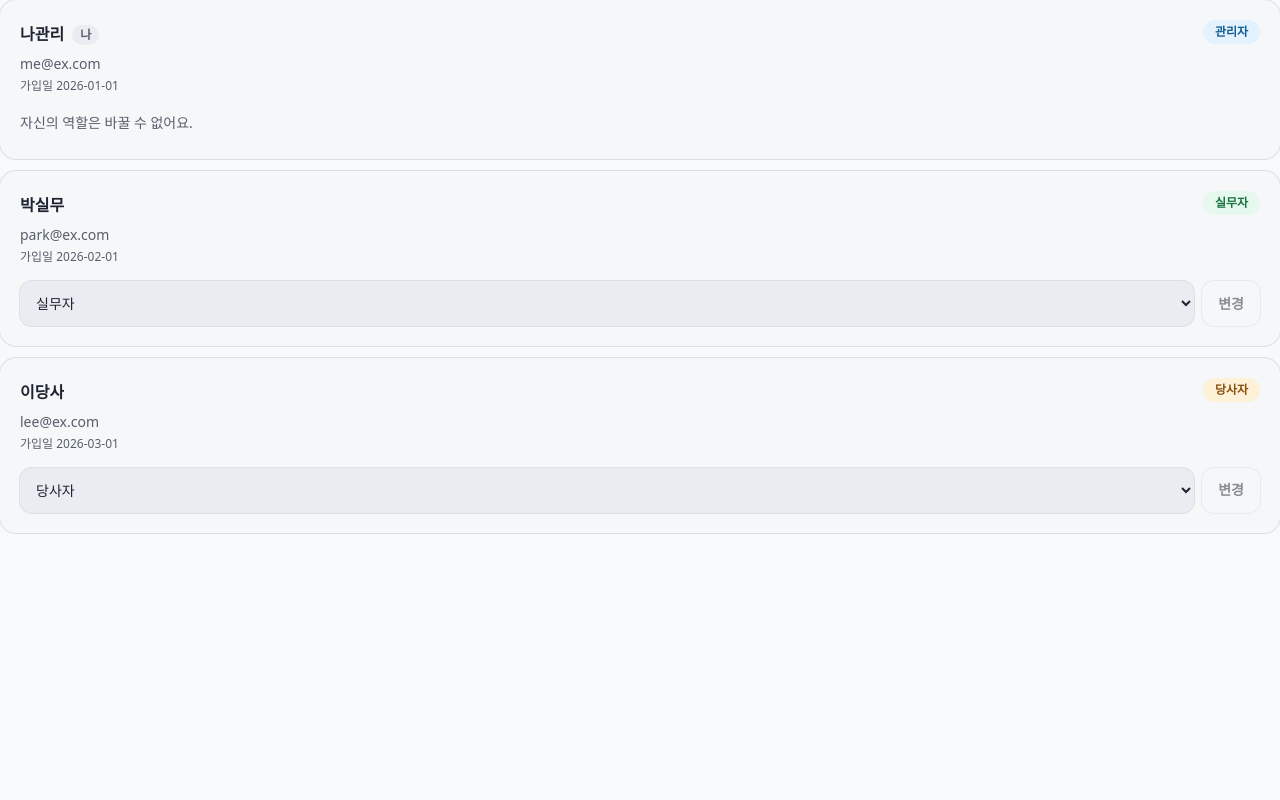
Scenario: UserRoleManagementClient — 역할 관리 › 그대로 두면 저장 안 함
Select "관리자" in the dropdown named "박실무". click: (607, 304)
box: [20,281,1194,326]
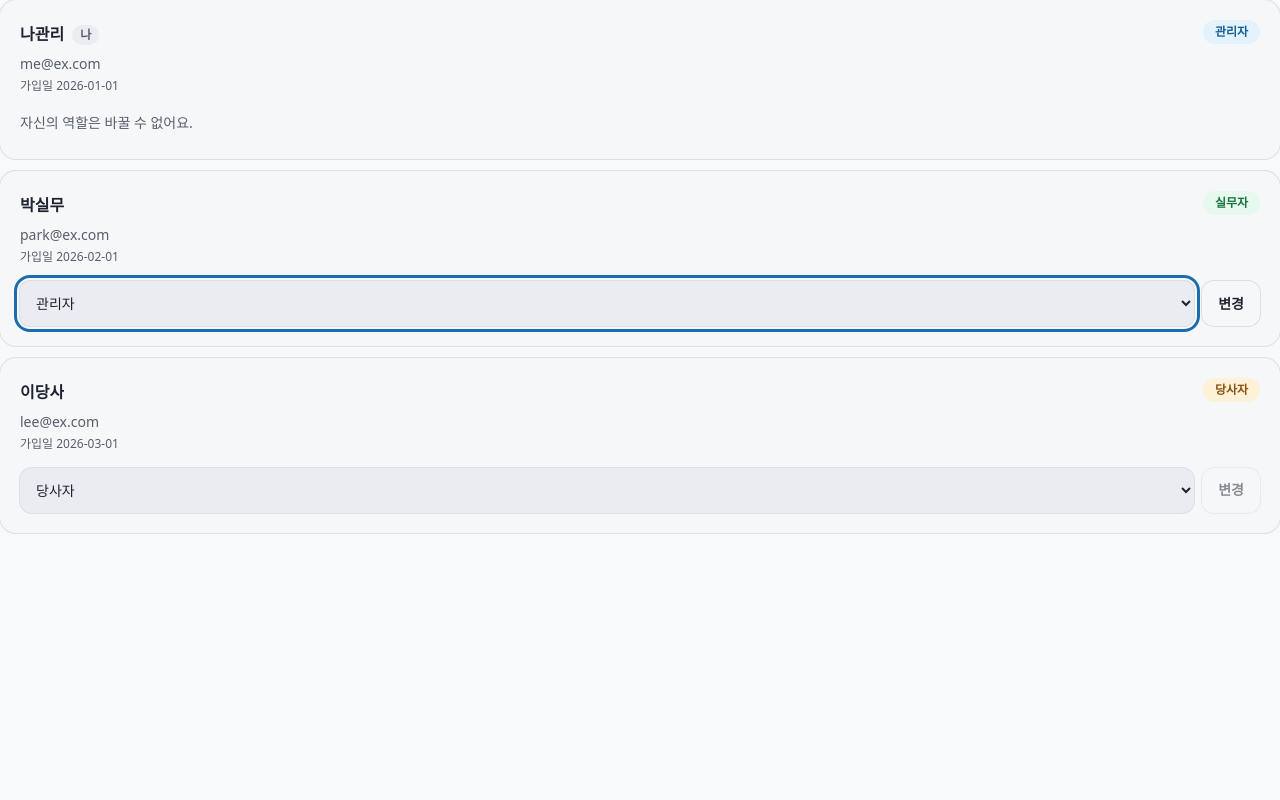
Click the button "변경" below "실무자". click: (1231, 304)
box: [1202,281,1260,326]
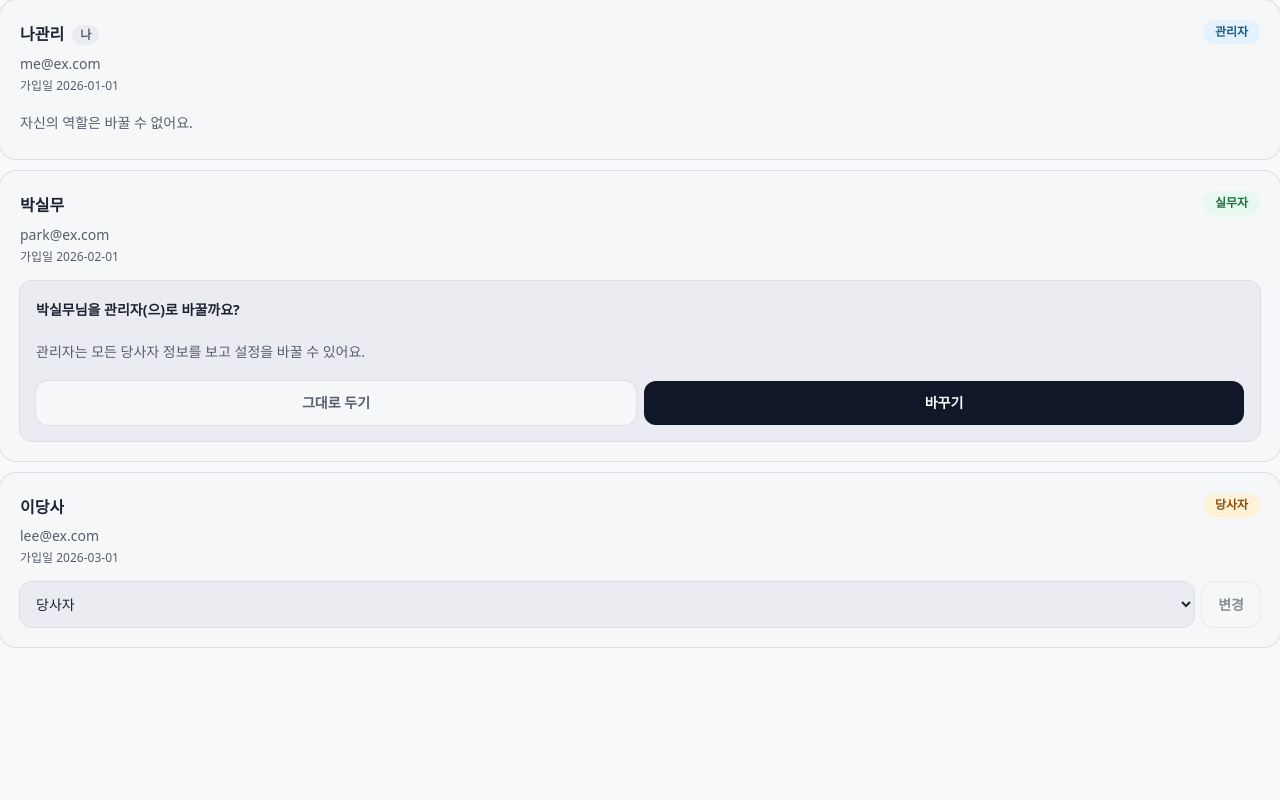
Click the button "그대로 두기". click: (336, 403)
box: [36,381,636,425]
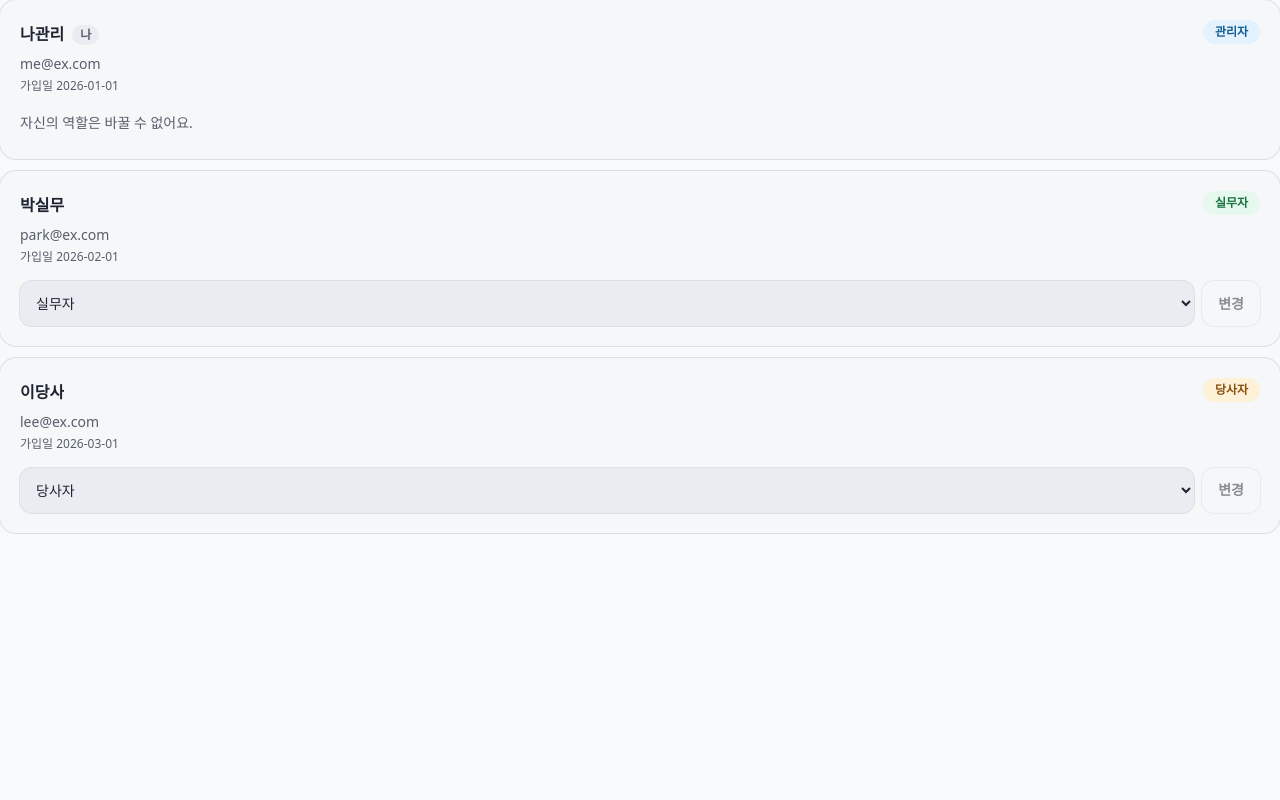
Check: the text "바꿀까요" is gone
